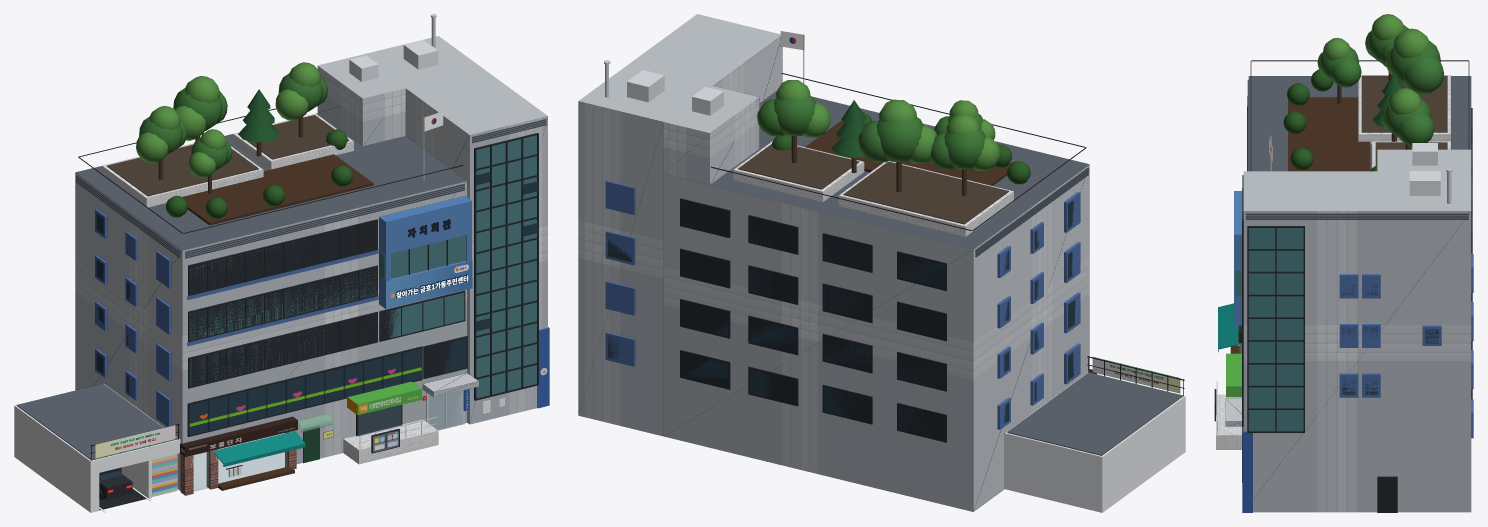
File: place_금호1가동주민센터.glb
The picture shows the model from 3 angles, left to right: view 1: azimuth 30°, elevation 25°; view 2: azimuth 150°, elevation 25°; view 3: azimuth 270°, elevation 25°; orthographic projection. The views are drawn at different scales.
Visible parts, largest first — view 1: Main_5F_Wing, Merged_South_UpperFrames, East_6F_CurtainTower, Main_CommunityCenter_Building, EastTower_SouthCurtainGlass, Merged_Garage_Podium, Merged_South_UpperGlass, Merged_Garage_RoofDeck, NorthEast_Penthouse_Step, Merged_Roof_DeckWood, Merged_Roof_PlanterSoil, Merged_Roof_LeavesBright (+29 smaller); view 2: Main_5F_Wing, East_6F_CurtainTower, Merged_North_Frames, Merged_Garage_Podium, Merged_North_Glass, Merged_Roof_PlanterSoil, Merged_Garage_RoofDeck, Merged_Blue_WinFrames, NorthEast_Penthouse_Step, Merged_Roof_Leaves, Merged_Roof_PlanterBox, Merged_Roof_LeavesBright (+8 smaller); view 3: East_6F_CurtainTower, Main_CommunityCenter_Building, Main_5F_Wing, Merged_Roof_Leaves, Merged_Roof_DeckWood, Merged_Blue_WinFrames, Merged_Roof_LeavesBright, Merged_Tower_Mullions, Merged_Roof_PlanterSoil, Merged_Parapet_Louvers, NorthEast_Penthouse_Step, Merged_Roof_Shrubs (+13 smaller).
Boxes of the visible parts, x1,y1,x2,y2 form: Main_5F_Wing: (75,113,467,490); Merged_South_UpperFrames: (188,219,465,388); East_6F_CurtainTower: (360,36,547,424); Main_CommunityCenter_Building: (189,111,472,491); EastTower_SouthCurtainGlass: (476,135,536,398); Merged_Garage_Podium: (14,384,180,512); Merged_South_UpperGlass: (189,242,464,384); Merged_Garage_RoofDeck: (16,383,177,460); NorthEast_Penthouse_Step: (317,55,405,146); Merged_Roof_DeckWood: (182,154,373,225); Merged_Roof_PlanterSoil: (107,115,349,196); Merged_Roof_LeavesBright: (136,62,320,178); Main_5F_Wing: (663,91,1089,511); East_6F_CurtainTower: (578,14,782,436); Merged_North_Frames: (680,198,946,442); Merged_Garage_Podium: (1004,372,1185,512); Merged_North_Glass: (681,201,945,438); Merged_Roof_PlanterSoil: (738,144,1008,224); Merged_Garage_RoofDeck: (1007,372,1183,455); Merged_Blue_WinFrames: (605,180,1080,429); NorthEast_Penthouse_Step: (663,86,759,184); Merged_Roof_Leaves: (757,95,985,169); Merged_Roof_PlanterBox: (733,141,1013,236); Merged_Roof_LeavesBright: (775,80,1000,170); East_6F_CurtainTower: (1243,171,1471,512); Main_CommunityCenter_Building: (1239,137,1303,431); Main_5F_Wing: (1248,76,1471,171); Merged_Roof_Leaves: (1320,25,1443,146); Merged_Roof_DeckWood: (1288,97,1370,171); Merged_Blue_WinFrames: (1339,254,1473,438); Merged_Roof_LeavesBright: (1317,14,1429,131); Merged_Tower_Mullions: (1242,188,1304,482); Merged_Roof_PlanterSoil: (1361,75,1447,165); Merged_Parapet_Louvers: (1242,79,1468,219); NorthEast_Penthouse_Step: (1377,149,1471,171); Merged_Roof_Shrubs: (1283,69,1377,171).
Bounding box in the file's own units: 31.94 × 22.36 × 15.12.
50 materials, 20 textured.
